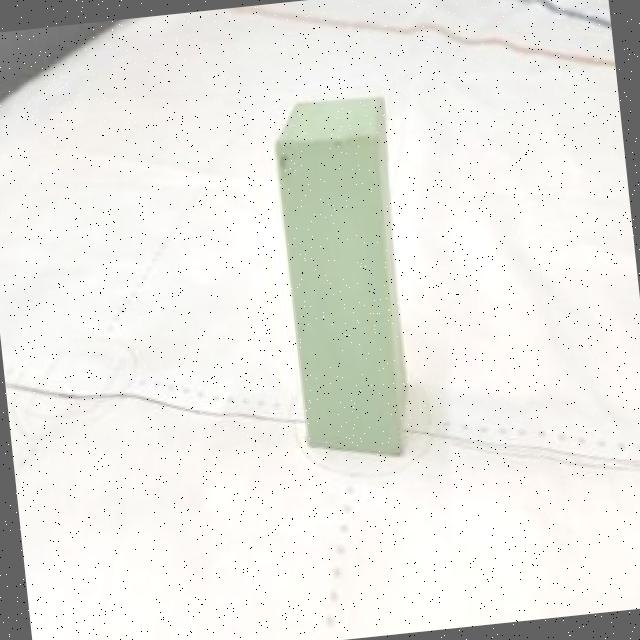greenbox: (266, 88, 424, 470)
